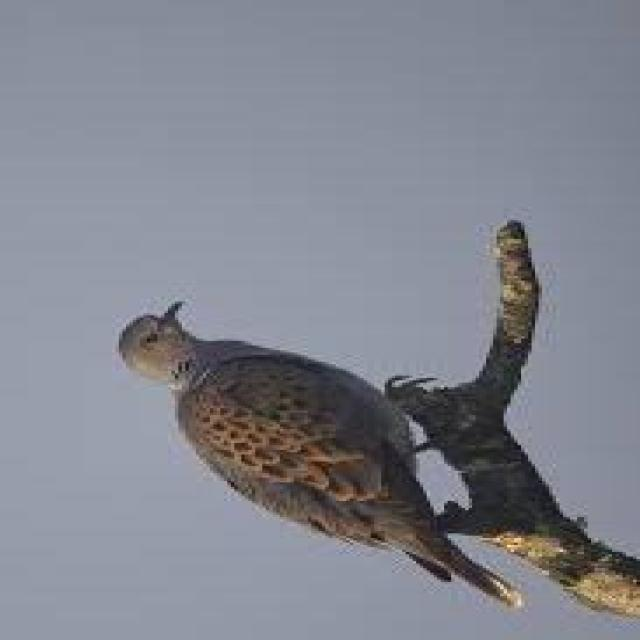pigeon: (92, 293, 526, 640)
